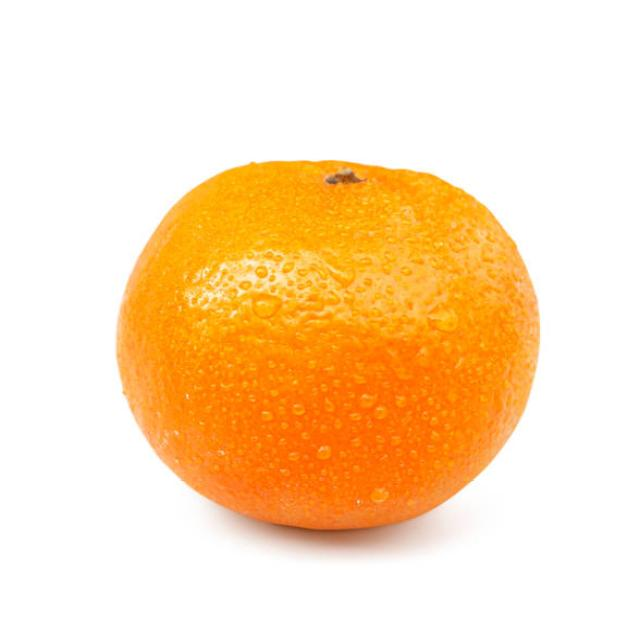Ripe: (111, 162, 548, 532)
